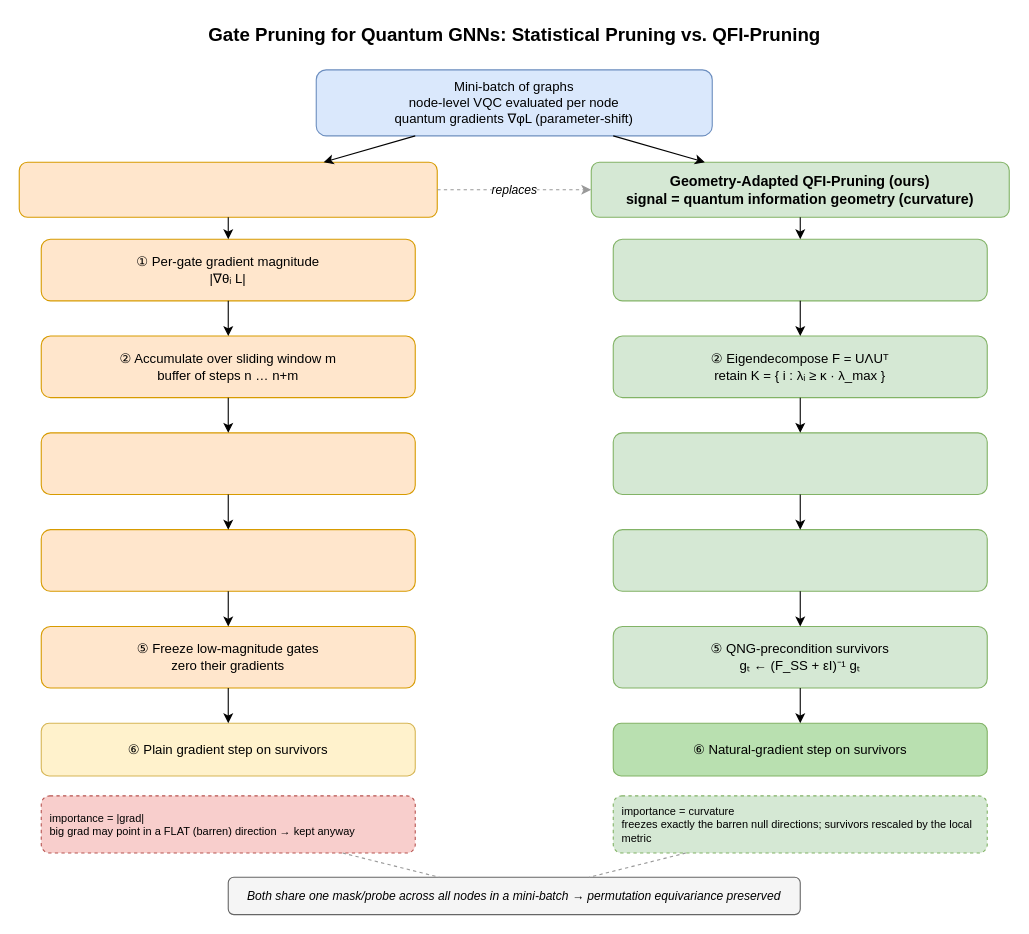
This 1029x934 diagram has some shape labels left out. The shapes that lost their labels are listed below. From the top down, each one's centre as x and y in pixels, then its label:
At pixel 227 189: "Original Statistical Pruning (SP) signal = gradient magnitude (slope)".
At pixel 799 269: "① Probe data-averaged QFIM F = meanᵥ F_FS(zᵥ) (once per epoch)".
At pixel 227 463: "③ ℓ₁-normalize → update prob pᵢ = ᵍᵢ / Σⱼ ᵍⱼ".
At pixel 799 463: "③ Spectral leverage eⱼ = Σᵢ∈K Uⱼᵢ² ∈ [0,1]".
At pixel 227 560: "④ Sample keep-set by pruning ratio ρ_t annealed ρ_(t+1) = min(ρ · e^0.1, 1)".
At pixel 799 560: "④ Freeze gates with eⱼ < τ (energy in null eigendirections = barren)".
